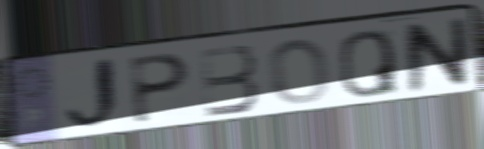B: (197, 42, 262, 120)
J: (62, 54, 125, 137)
N: (402, 15, 471, 95)
O: (267, 36, 331, 107)
P: (127, 51, 192, 126)
Q: (337, 28, 401, 100)
